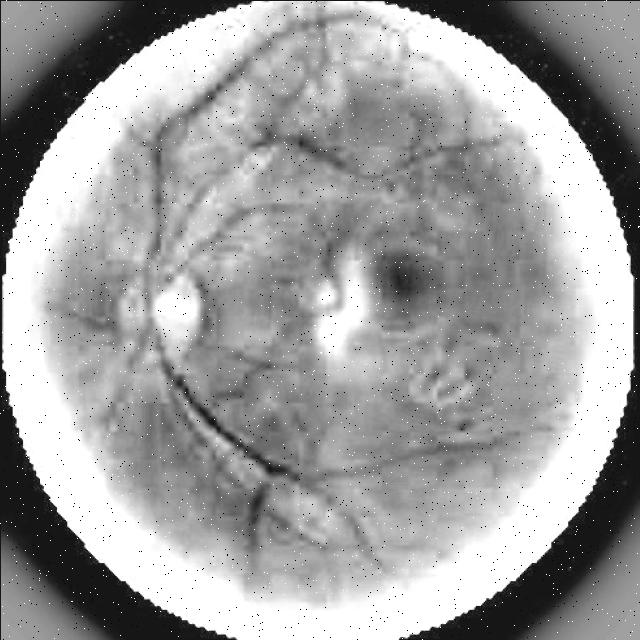Macula: (376, 256, 429, 303)
Nerves: (118, 21, 325, 514)
Optic Disk: (118, 267, 202, 362)
